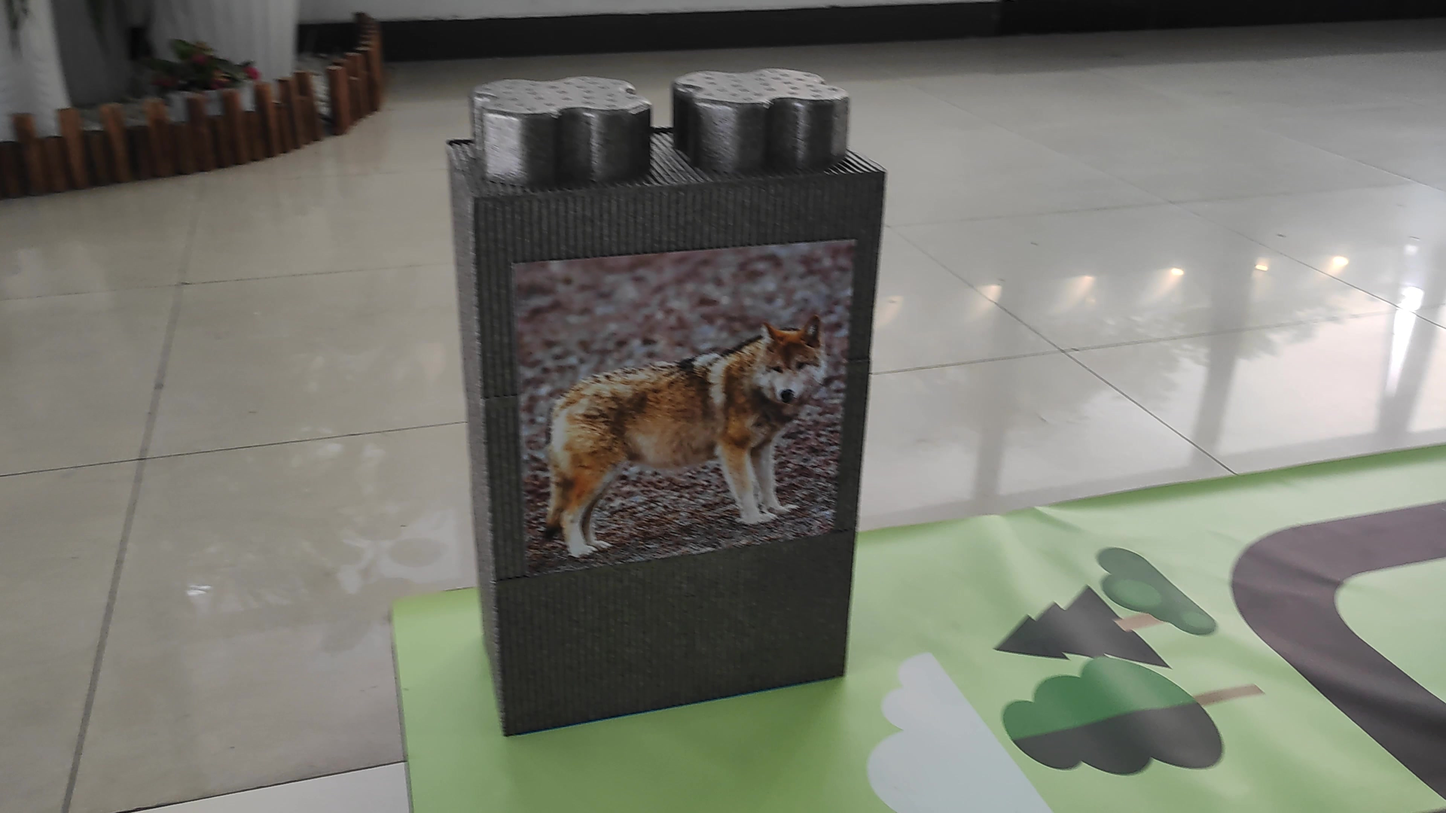wolf: (522, 270, 831, 542)
